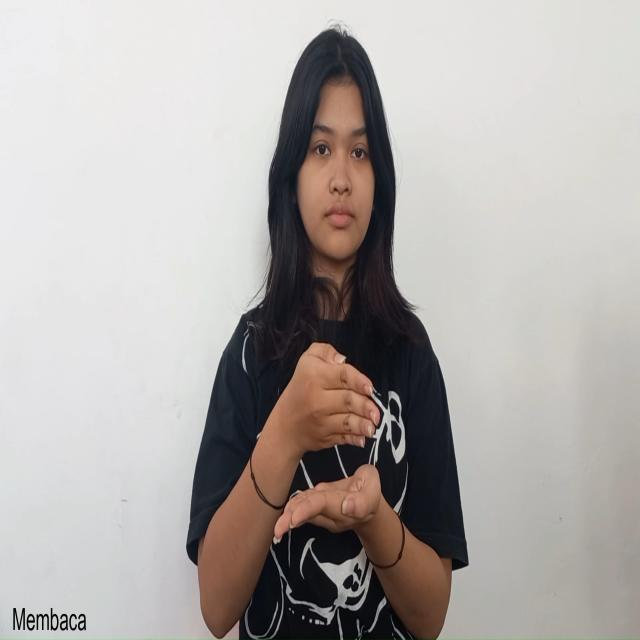Membaca -BISINDO-: (272, 340, 381, 545)
